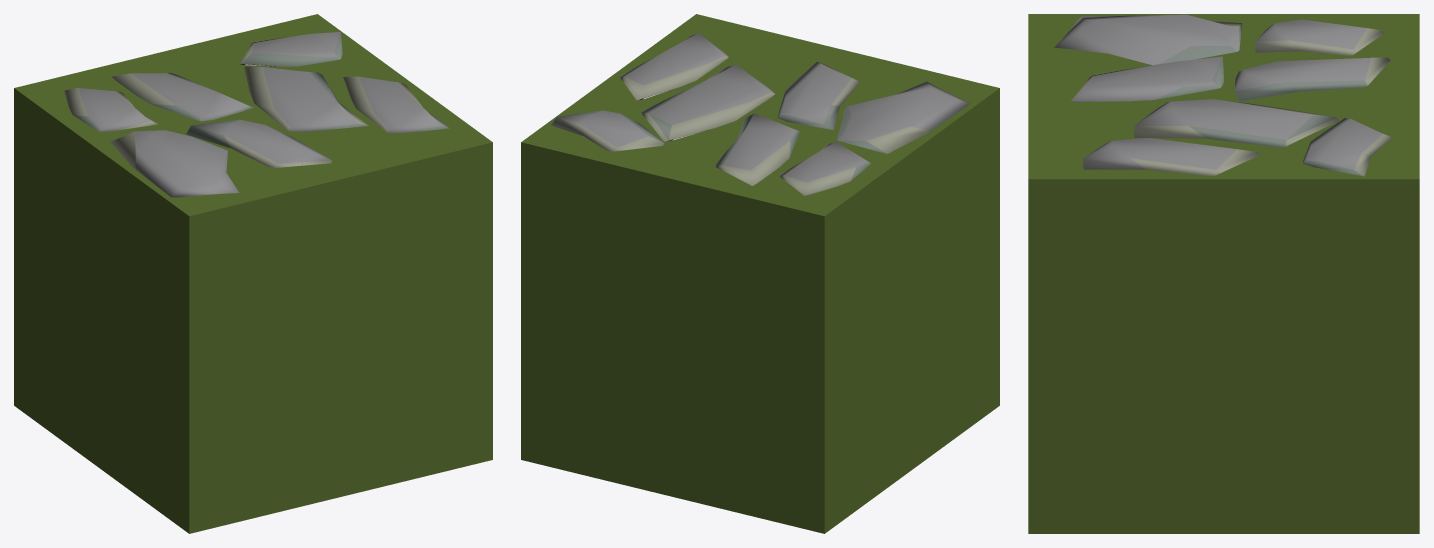
The model's file is E_Trail01.fbx.
3 renders of one model, left to right at view 1: azimuth 30°, elevation 25°; view 2: azimuth 150°, elevation 25°; view 3: azimuth 270°, elevation 25°, orthographic. The views are drawn at different scales.
Visible parts, largest first — view 1: E_Trail01; view 2: E_Trail01; view 3: E_Trail01.
Boxes of the visible parts, x1=… form: E_Trail01: x1=14, y1=14, x2=492, y2=533; E_Trail01: x1=521, y1=14, x2=999, y2=533; E_Trail01: x1=1028, y1=14, x2=1419, y2=533.
Bounding box in the file's own units: 100 × 104 × 100.
